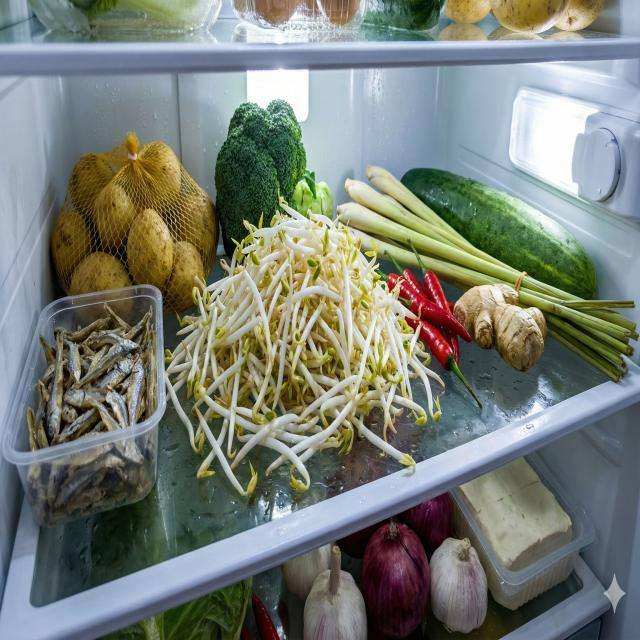anchovies: (27, 301, 159, 524)
bean_sprouts: (166, 187, 446, 498)
brocolli: (215, 99, 334, 262)
chili: (376, 234, 484, 411)
cucumber: (401, 166, 597, 299)
garlic: (280, 542, 368, 640), (429, 535, 488, 631)
ginger: (453, 281, 548, 371)
lemongrass: (337, 164, 639, 383)
onion: (360, 522, 430, 640)
potato: (51, 141, 221, 324)
tofu: (457, 456, 574, 610)
